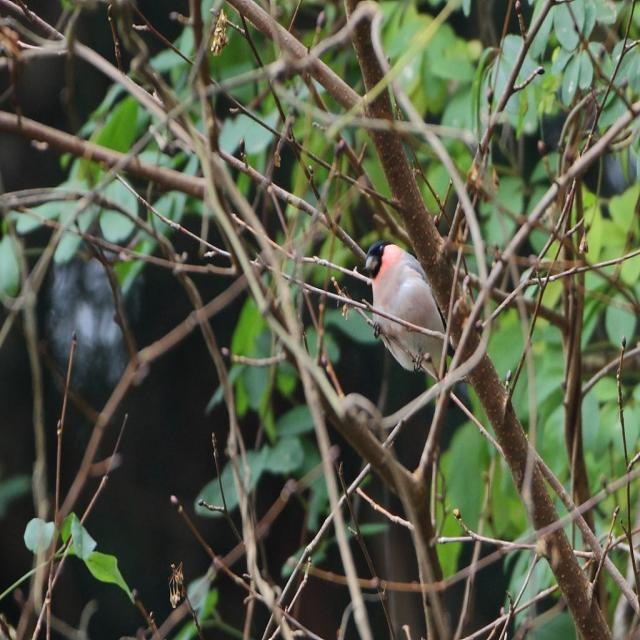bird: (352, 243, 466, 387)
